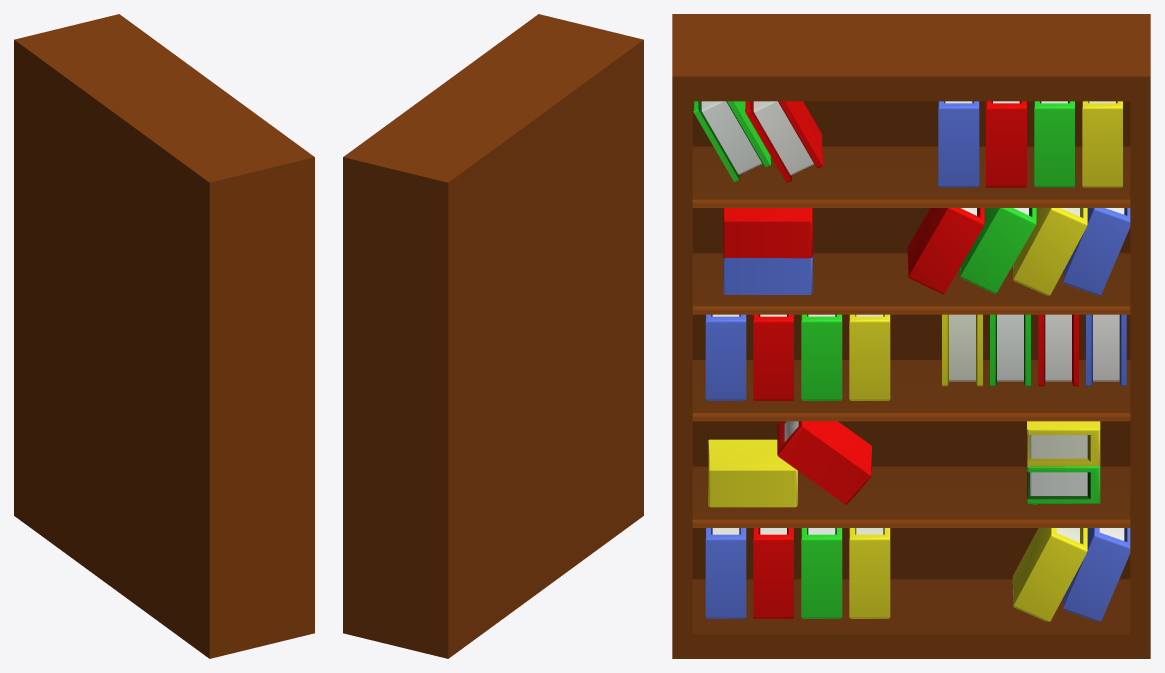
Rendered from EstanteLivro.fbx.
The picture shows the model from 3 angles, left to right: view 1: azimuth 30°, elevation 25°; view 2: azimuth 150°, elevation 25°; view 3: azimuth 270°, elevation 25°; orthographic projection. The views are drawn at different scales.
Visible parts, largest first — view 1: Cube; view 2: Cube; view 3: Cube.
Boxes of the visible parts, x1,y1,x2,y2 form: Cube: [14, 14, 314, 658]; Cube: [343, 14, 643, 658]; Cube: [672, 14, 1150, 658].
Bounding box in the file's own units: 87.94 × 380 × 283.
5 materials, 5 textured.
